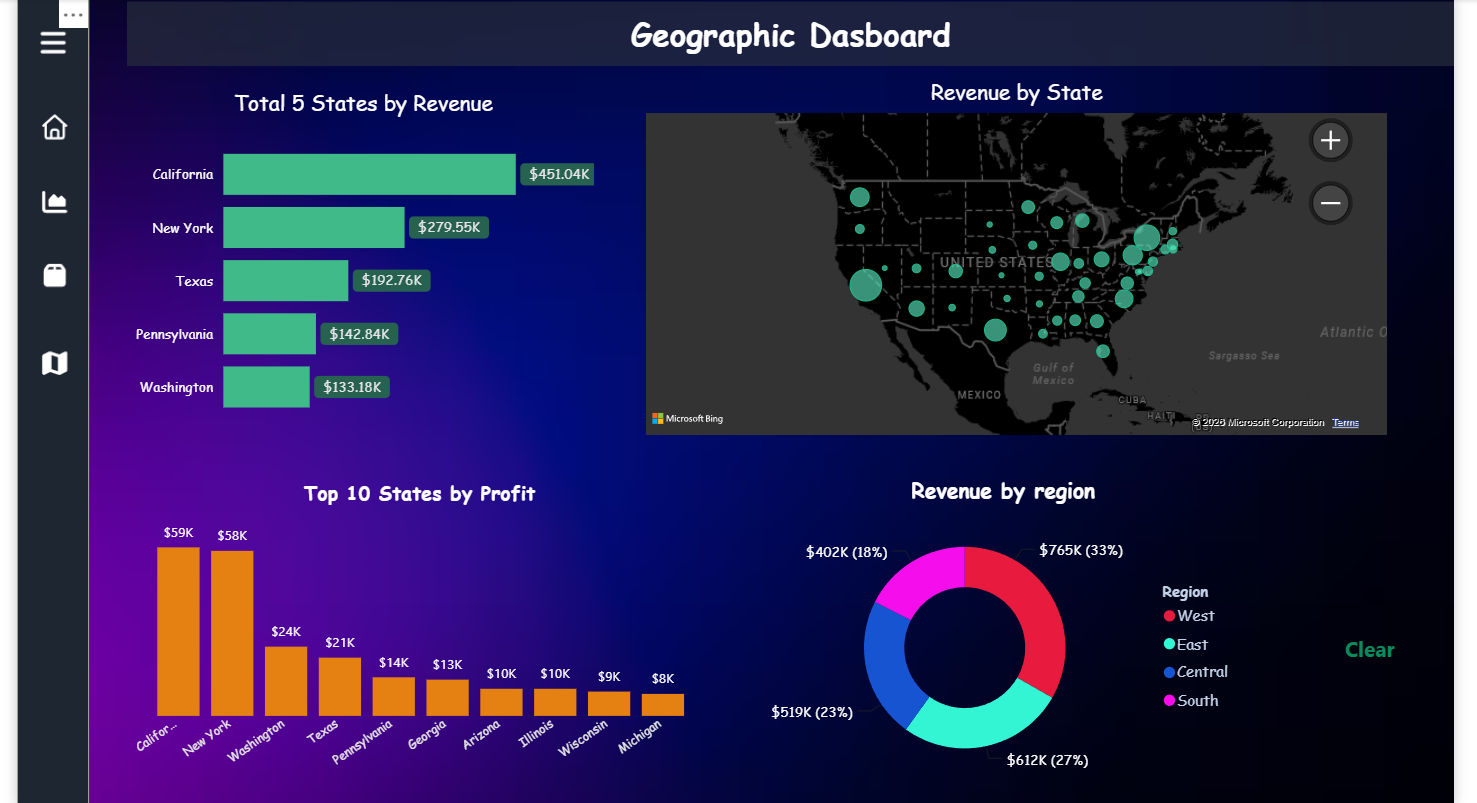

Layout of this report page (visuals, bound fields, positions):
{"tool":"powerbi","page":{"name":"Geographic","canvas":[1280,720],"ordinal":3},"visuals":[{"type":"actionButton","title":"title","box":[97.5,2.5,1182.5,57.5],"z":0},{"type":"shape","title":"left nav2","box":[56.2,0,32.5,720],"z":1000},{"type":"shape","title":"left nav1","box":[0,0,65,720],"z":2000},{"type":"actionButton","title":"menu bar","box":[12.5,18.8,40,40],"z":2000,"group":"g1"},{"type":"group","id":"g1","title":"Menu Bar","box":[12.5,18.8,40,40],"z":5000},{"type":"actionButton","title":"map","box":[16,304,40,40],"z":7000},{"type":"actionButton","title":"product","box":[16,226,40,40],"z":8000},{"type":"actionButton","title":"executive","box":[16,160,40,40],"z":9000},{"type":"actionButton","title":"home","box":[16,93,40,40],"z":10000},{"type":"map","title":"Revenue by State","fields":{"Category":["dim_customer.state"],"Size":["measure.Total Revenue"]},"box":[555,60.3,669.6,328.2],"z":11000},{"type":"clusteredBarChart","title":"Total 5 States by Revenue","fields":{"Category":["dim_customer.state"],"Y":["measure.Total Revenue"]},"box":[97.7,70,421,318.5],"z":12000},{"type":"actionButton","box":[1149.7,533.2,109.8,90.5],"z":13000},{"type":"clusteredColumnChart","title":"Top 10 States by Profit","fields":{"Category":["dim_customer.state"],"Y":["measure.Total Profit"]},"box":[97.7,418.6,521.2,275.1],"z":14000},{"type":"donutChart","title":"Revenue by region","fields":{"Category":["dim_customer.region"],"Y":["measure.Total Revenue"]},"box":[663.5,418.6,429.5,285.9],"z":15000}]}

Visuals, with their boxes on the page's 1280x720 design canvas (x1, y1, x2, y2). These are canvas units, not pixel positions in the 1477x803 screenshot, which may show the page scaled, cropped or inside an application window:
"title" actionButton: x1=98 y1=2 x2=1280 y2=60
"left nav2" shape: x1=56 y1=0 x2=89 y2=720
"left nav1" shape: x1=0 y1=0 x2=65 y2=720
"menu bar" actionButton: x1=12 y1=19 x2=52 y2=59
"Menu Bar" group: x1=12 y1=19 x2=52 y2=59
"map" actionButton: x1=16 y1=304 x2=56 y2=344
"product" actionButton: x1=16 y1=226 x2=56 y2=266
"executive" actionButton: x1=16 y1=160 x2=56 y2=200
"home" actionButton: x1=16 y1=93 x2=56 y2=133
"Revenue by State" map: x1=555 y1=60 x2=1225 y2=388
"Total 5 States by Revenue" clusteredBarChart: x1=98 y1=70 x2=519 y2=388
actionButton: x1=1150 y1=533 x2=1260 y2=624
"Top 10 States by Profit" clusteredColumnChart: x1=98 y1=419 x2=619 y2=694
"Revenue by region" donutChart: x1=664 y1=419 x2=1093 y2=704
